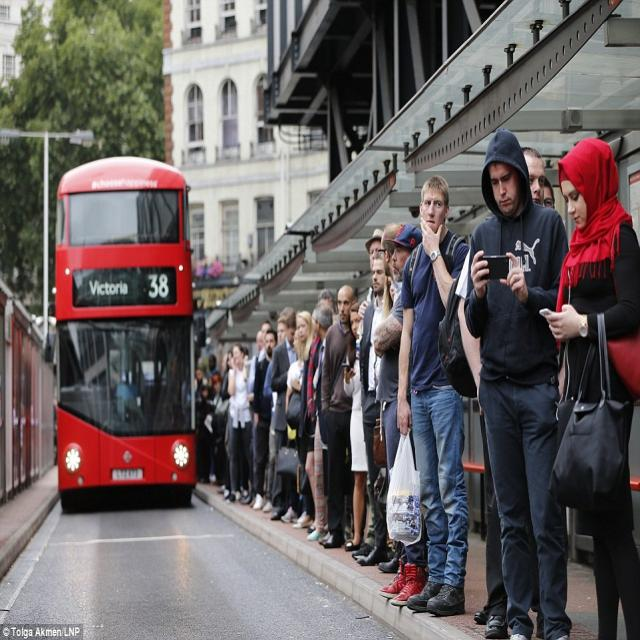body: (462, 125, 573, 640), (455, 167, 574, 639), (538, 135, 640, 640), (479, 141, 556, 639), (392, 173, 472, 613), (375, 222, 427, 607), (372, 225, 423, 575), (355, 249, 404, 567), (193, 339, 255, 506), (318, 284, 357, 548), (340, 300, 370, 553), (280, 327, 317, 525), (306, 303, 336, 543), (292, 310, 323, 529), (269, 311, 300, 522), (133, 342, 191, 446), (262, 315, 288, 513), (252, 328, 278, 513), (250, 319, 274, 509), (356, 224, 384, 350), (247, 329, 265, 510), (315, 288, 337, 316), (278, 306, 296, 320)
